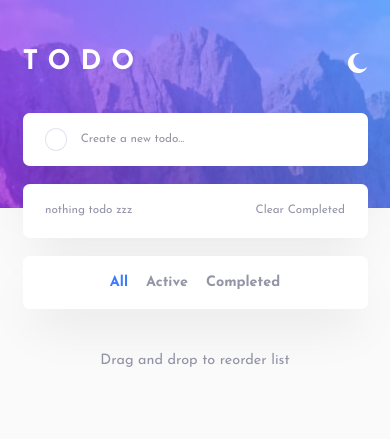
Todo List › remove a todo
The image size is (390, 439).
In the field: {"x": 213, "y": 139} [81,128,345,151], type "ilham ganteng"
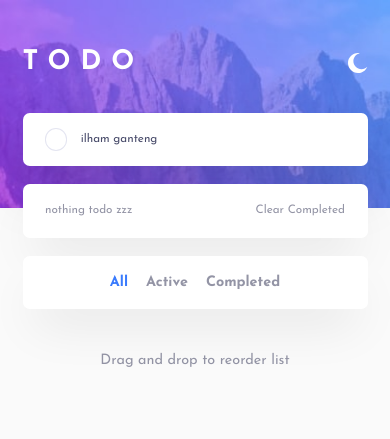
Submit the form, box [22,112,368,166]
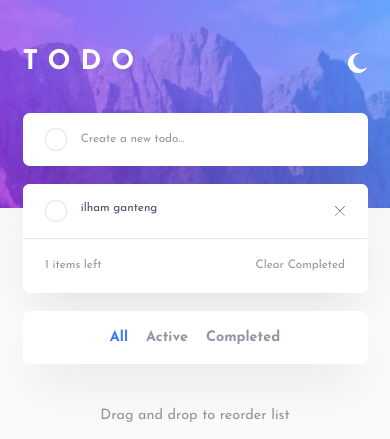
Click the 4th button: {"x": 338, "y": 211} [330,200,345,222]
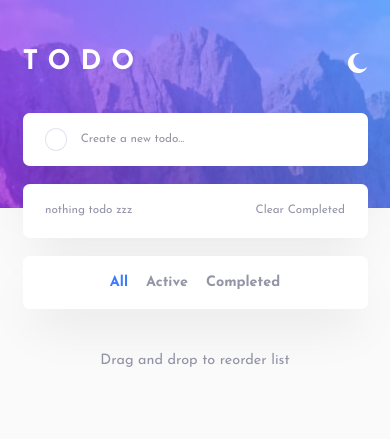
Now the text "ilham ganteng" is gone
